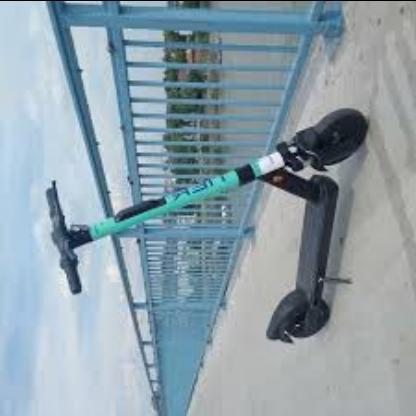bike: (44, 107, 370, 346)
